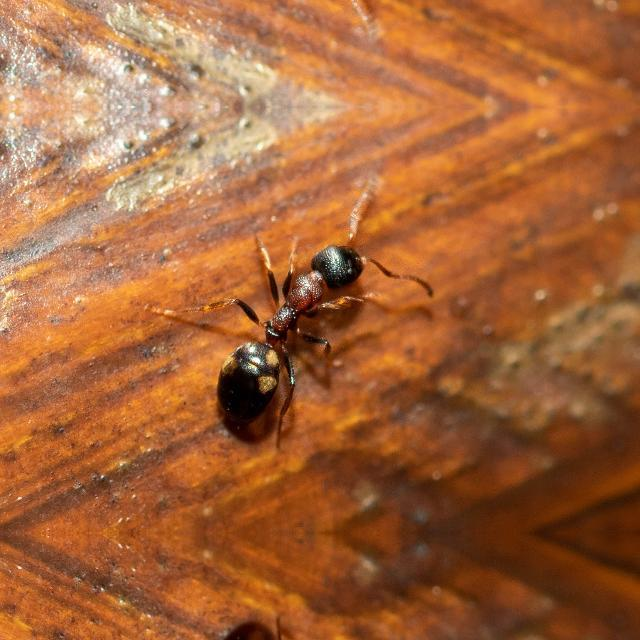Dolichoderus: (168, 198, 418, 442)
